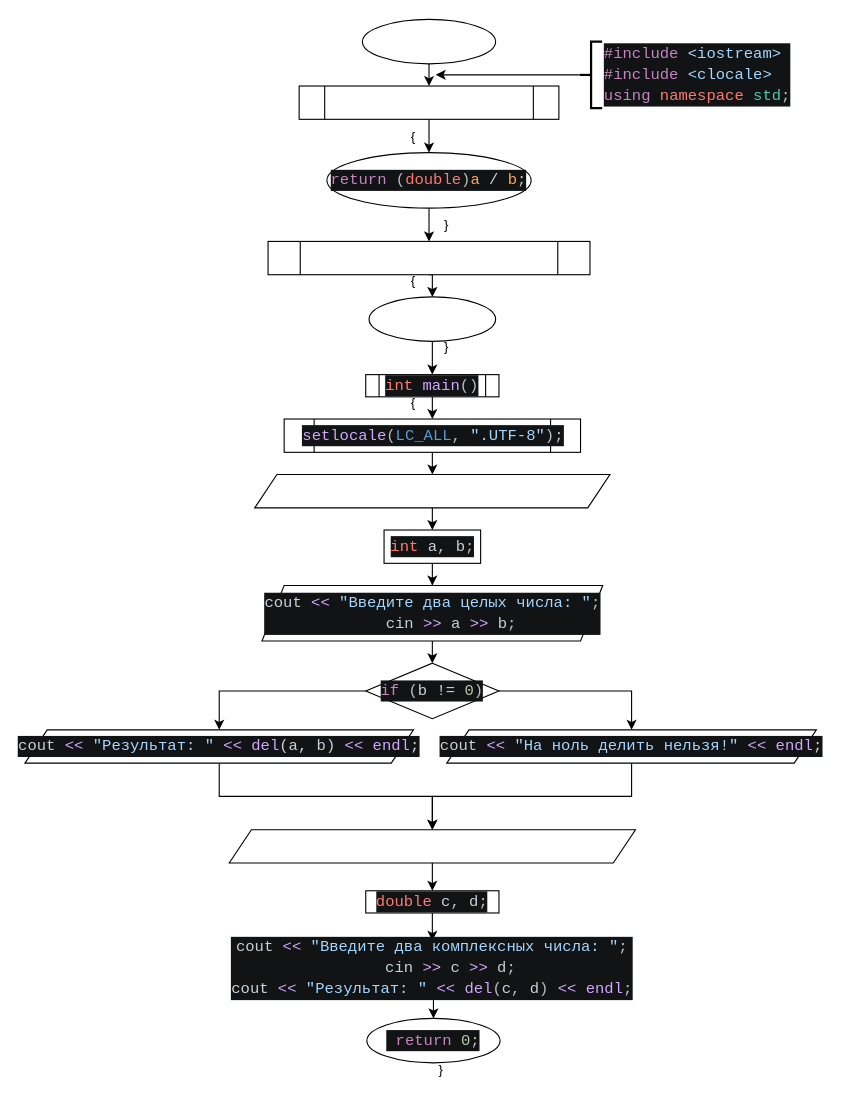
This 842x1107 diagram has some shape labels left out. Each missing label, with the centre of its shape:
cout << "Деление комплексных чисел" << endl ;: pixel 431 846
cout << "Деление целых чисел" << endl ;: pixel 432 490
double del ( double a , double b ): pixel 428 257
double del ( int a , int b ): pixel 428 102
return a / b ;: pixel 432 318
начало: pixel 428 41
